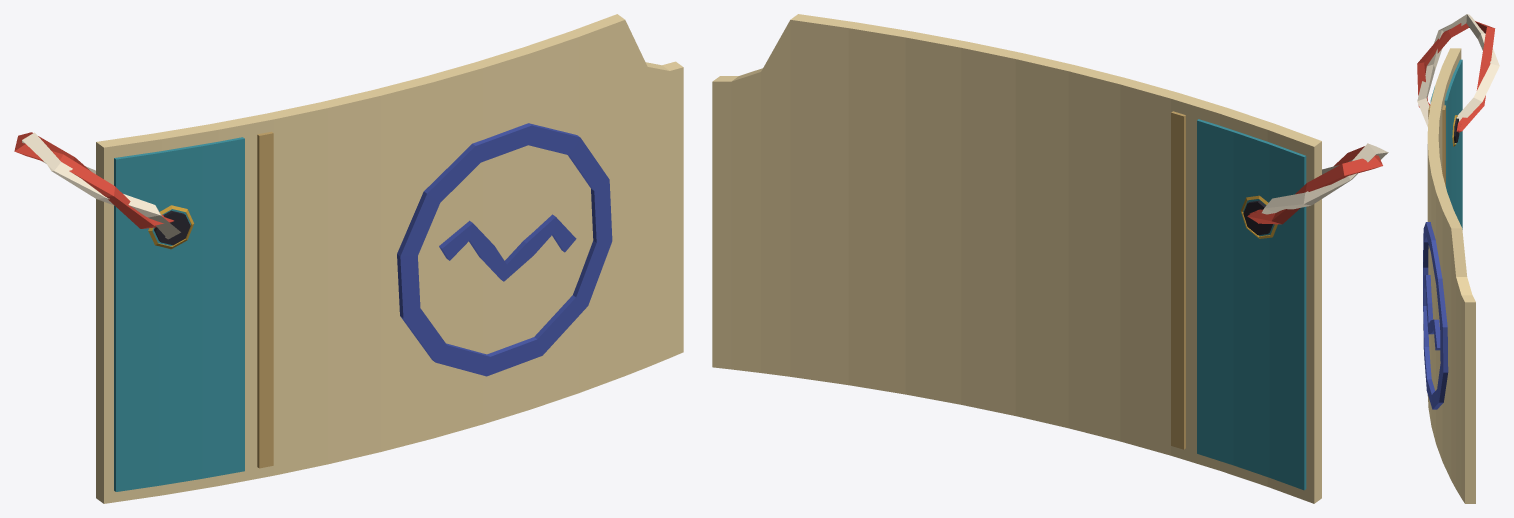
The model's file is ferry_pass.glb.
The picture shows the model from 3 angles, left to right: view 1: azimuth 30°, elevation 25°; view 2: azimuth 150°, elevation 25°; view 3: azimuth 270°, elevation 25°; orthographic projection. The views are drawn at different scales.
Parts seen in each view (by area): view 1: ferry_pass; view 2: ferry_pass; view 3: ferry_pass.
Boxes of the visible parts, x1,y1,x2,y2 form: ferry_pass: (14, 14, 683, 503); ferry_pass: (712, 14, 1388, 503); ferry_pass: (1417, 14, 1499, 503).
Bounding box in the file's own units: 0.2931 × 0.1586 × 0.0446.
